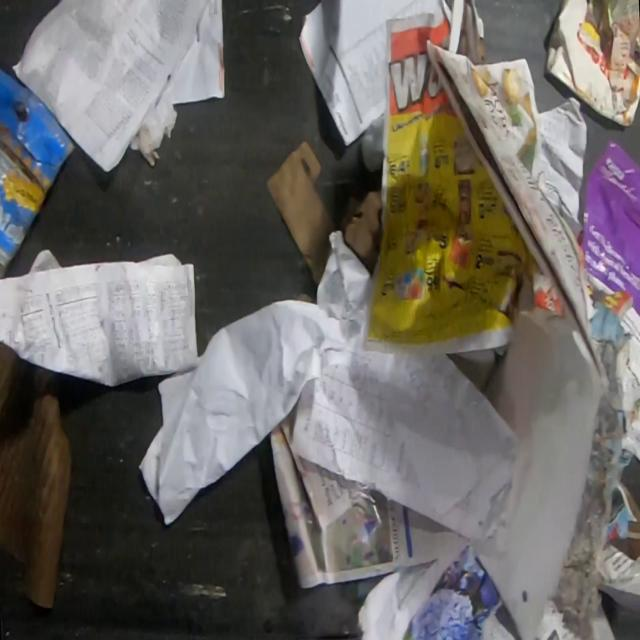cardboard: (266, 134, 385, 294), (542, 0, 640, 129)
